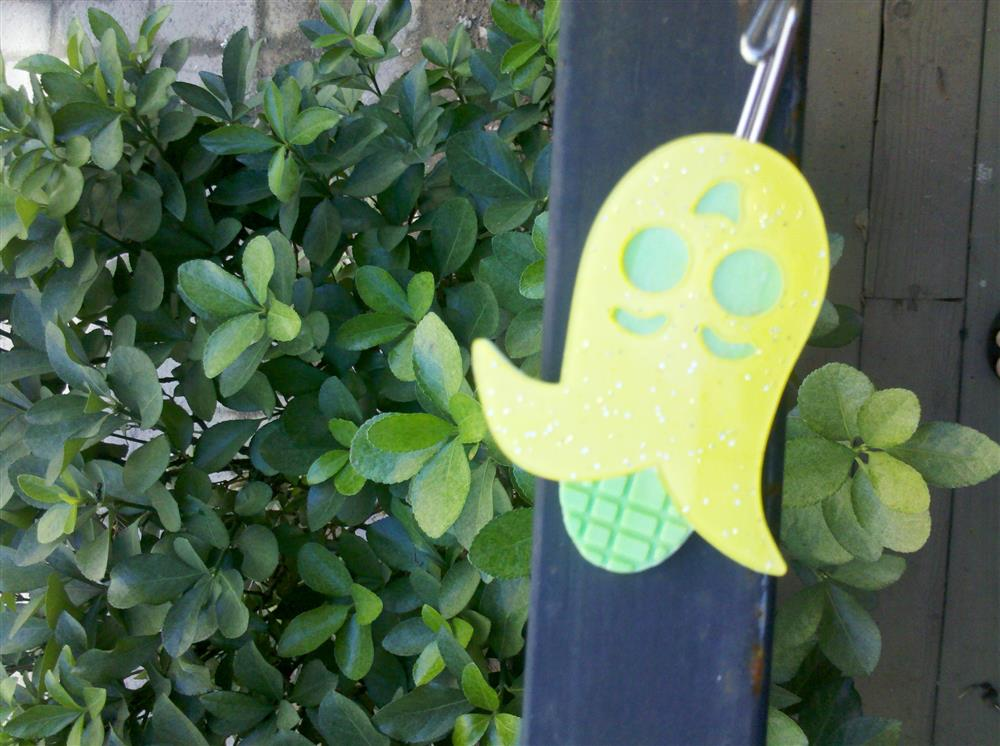Corn_Shape_Pothook: (472, 134, 829, 578)
